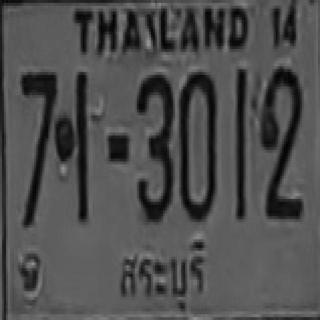N00: (177, 69, 215, 219)
N01: (234, 66, 244, 199)
N02: (260, 79, 302, 215)
N03: (135, 72, 171, 219)
N07: (20, 69, 56, 216), (20, 69, 56, 182), (20, 69, 56, 158)
P60: (115, 230, 216, 317)
